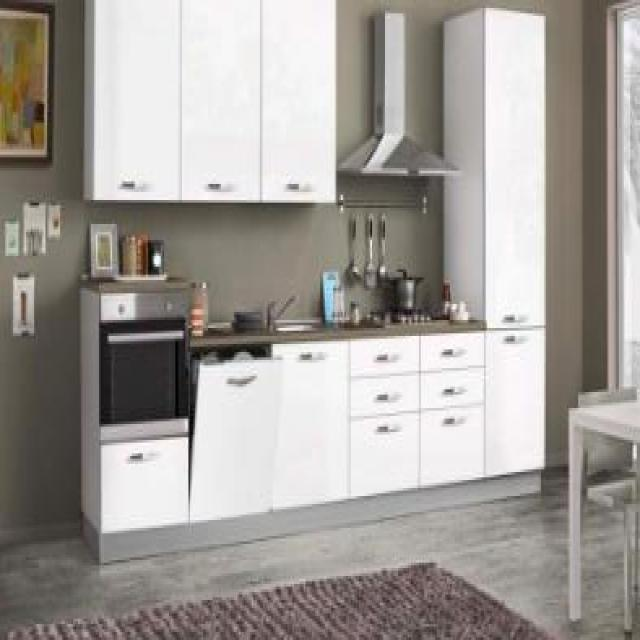dishwasher: (186, 339, 282, 520)
